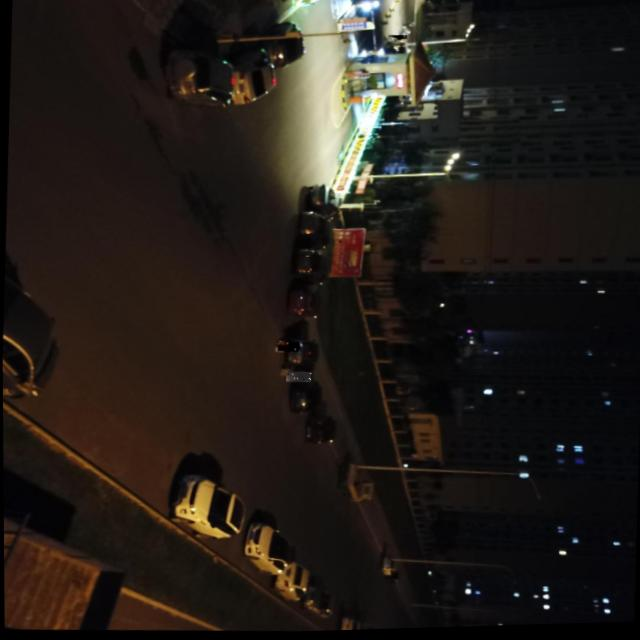Person: (284, 372, 309, 384), (276, 343, 298, 354), (387, 37, 406, 42)
